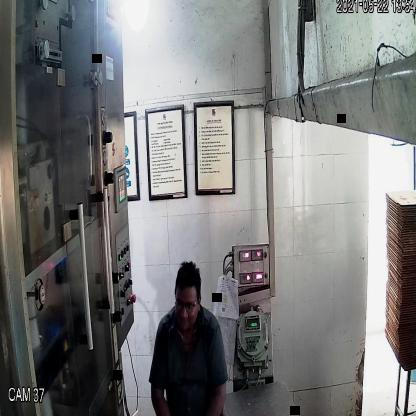goggles: (172, 293, 200, 318)
